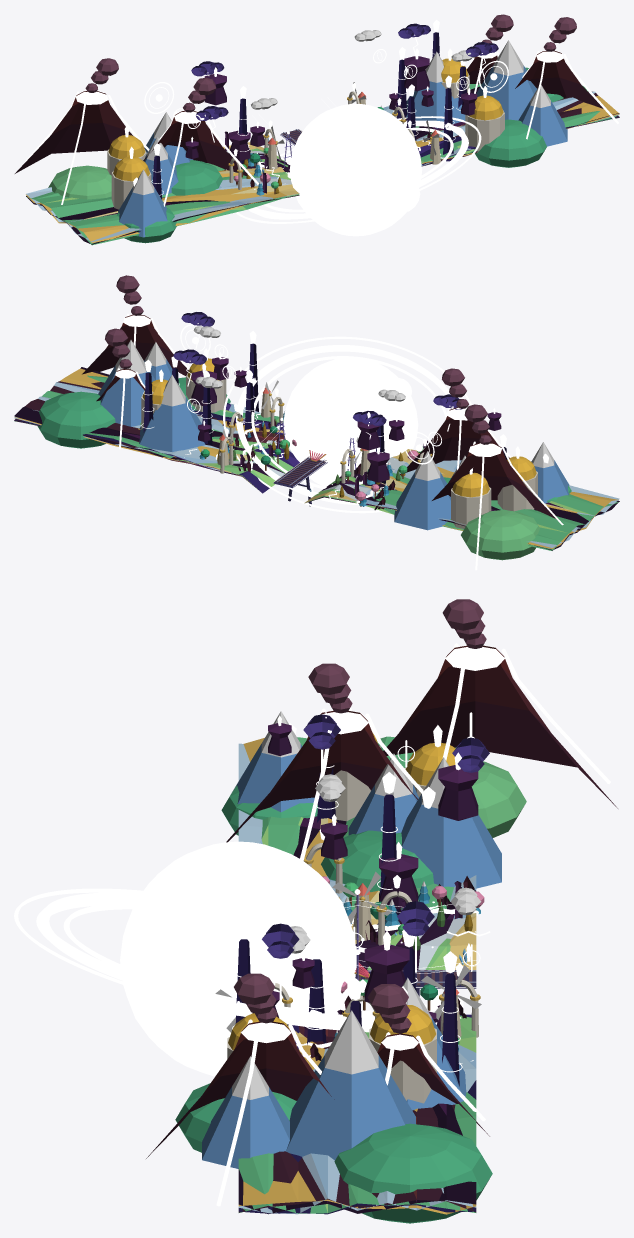
Rendered from express.glb.
The picture shows the model from 3 angles, top to bottom: view 1: azimuth 30°, elevation 25°; view 2: azimuth 150°, elevation 25°; view 3: azimuth 270°, elevation 25°; orthographic projection. The views are drawn at different scales.
Parts seen in each view (by area): view 1: moon_glow, land_aero_paint, land_glacio_paint, land_fusion_paint, land_spectro_paint, land_havoc_paint, land_electro_paint, land_fusion_glow, land_electro_glow, land_havoc_glow, land_spectro_glow; view 2: moon_glow, land_aero_paint, land_glacio_paint, land_fusion_paint, land_spectro_paint, land_havoc_paint, land_electro_paint, land_fusion_glow, land_electro_glow, track_paint, land_havoc_glow, land_spectro_glow; view 3: moon_glow, land_glacio_paint, land_fusion_paint, land_aero_paint, land_spectro_paint, land_havoc_paint, land_electro_paint, land_fusion_glow, land_electro_glow, land_spectro_glow.
Part boxes in pixels (bbox=[...]): moon_glow: bbox=[235, 103, 481, 236]; land_aero_paint: bbox=[27, 30, 619, 245]; land_glacio_paint: bbox=[26, 40, 619, 242]; land_fusion_paint: bbox=[15, 14, 619, 187]; land_spectro_paint: bbox=[26, 58, 619, 243]; land_havoc_paint: bbox=[26, 56, 619, 244]; land_electro_paint: bbox=[152, 23, 619, 199]; land_fusion_glow: bbox=[25, 51, 618, 206]; land_electro_glow: bbox=[133, 20, 485, 195]; land_havoc_glow: bbox=[144, 48, 508, 178]; land_spectro_glow: bbox=[124, 48, 487, 158]; moon_glow: bbox=[223, 336, 471, 513]; land_aero_paint: bbox=[14, 326, 619, 560]; land_glacio_paint: bbox=[14, 340, 619, 547]; land_fusion_paint: bbox=[14, 275, 555, 518]; land_spectro_paint: bbox=[14, 358, 618, 548]; land_havoc_paint: bbox=[14, 357, 619, 550]; land_electro_paint: bbox=[14, 312, 506, 493]; land_fusion_glow: bbox=[115, 313, 563, 570]; land_electro_glow: bbox=[141, 323, 548, 467]; track_paint: bbox=[273, 456, 327, 506]; land_havoc_glow: bbox=[180, 324, 495, 498]; land_spectro_glow: bbox=[159, 344, 520, 474]; moon_glow: bbox=[14, 841, 463, 1076]; land_glacio_paint: bbox=[202, 711, 501, 1214]; land_fusion_paint: bbox=[146, 599, 617, 1212]; land_aero_paint: bbox=[175, 736, 526, 1223]; land_spectro_paint: bbox=[227, 733, 480, 1214]; land_havoc_paint: bbox=[238, 723, 478, 1214]; land_electro_paint: bbox=[235, 714, 489, 1214]; land_fusion_glow: bbox=[216, 643, 610, 1206]; land_electro_glow: bbox=[232, 722, 476, 1072]; land_spectro_glow: bbox=[265, 707, 480, 1003].
Bounding box in the file's own units: 185 × 56.6 × 102.
